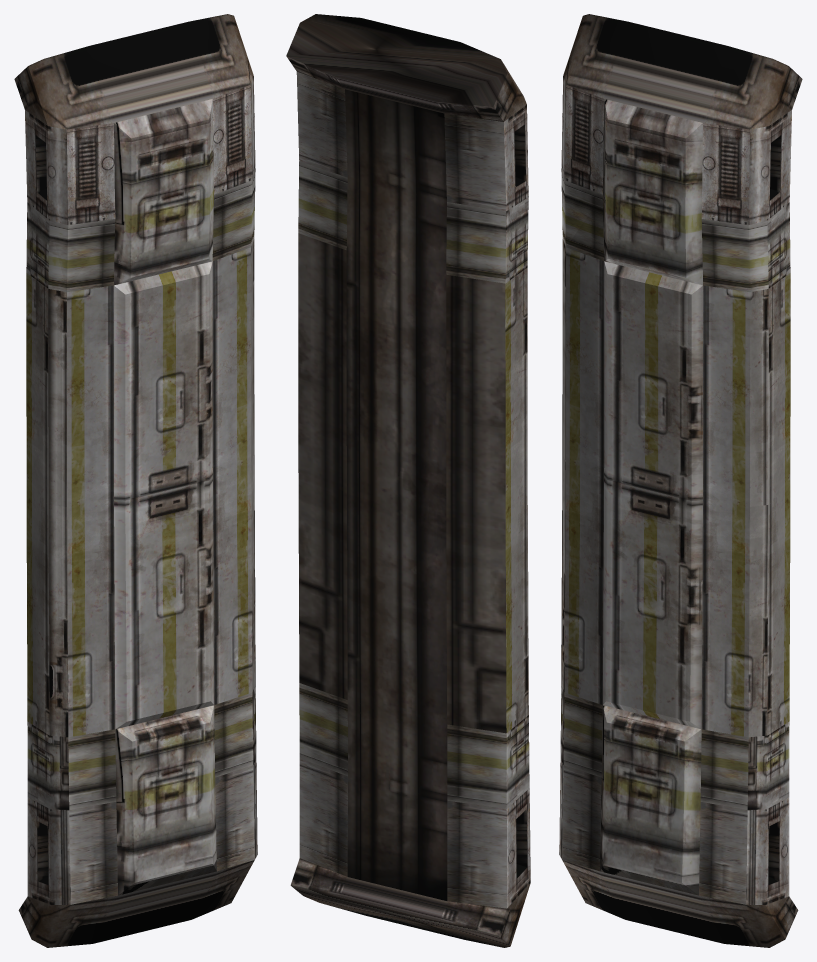
The model's file is theta_girder.dae.
The picture shows the model from 3 angles, left to right: view 1: azimuth 30°, elevation 25°; view 2: azimuth 150°, elevation 25°; view 3: azimuth 330°, elevation 25°; orthographic projection.
Visible parts, largest first — view 1: theta_girder; view 2: theta_girder; view 3: theta_girder.
Boxes of the visible parts, left/top/right/bottom form: theta_girder: left=14, top=14, right=257, bottom=947; theta_girder: left=286, top=14, right=530, bottom=947; theta_girder: left=559, top=14, right=802, bottom=947.
Size of the model in its own units: 1.09 by 4.55 by 0.5527.
